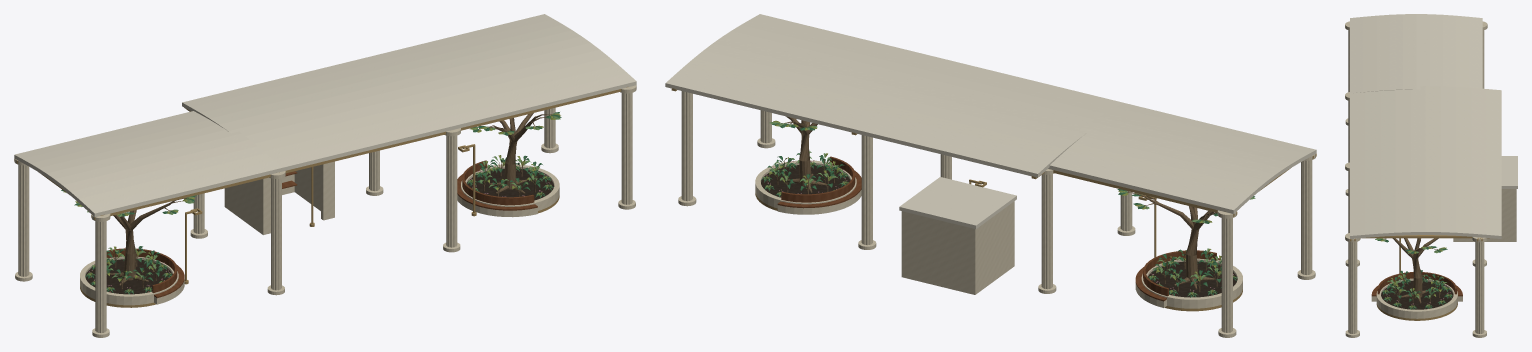
The model's file is G7_Completion_R007B_G7C7_D06_ForeGardenCourt.glb.
The picture shows the model from 3 angles, left to right: view 1: azimuth 30°, elevation 25°; view 2: azimuth 150°, elevation 25°; view 3: azimuth 270°, elevation 25°; orthographic projection. The views are drawn at different scales.
Parts seen in each view (by area): view 1: G7C7_D06_ForeGardenCourt_G7C7_roof_solid_roof, G7C7_D06_ForeGardenCourt_G7C7_stone_solid_frame, G7C7_D06_ForeGardenCourt_G7C7_soil_solid_planter, G7C7_D06_ForeGardenCourt_G7C7_wood_solid_furniture, G7C7_D06_ForeGardenCourt_G7C7_bark_solid_tree_bark, G7C7_D06_ForeGardenCourt_G7C7_stone_solid_planter, G7C7_D06_ForeGardenCourt_G7C7_metal_solid_frame, G7C7_D06_ForeGardenCourt_ASTRAEA_botanical_leaf_jade.001_vis, G7C7_D06_ForeGardenCourt_G7C7_stone_solid_furniture, G7C7_D06_ForeGardenCourt_G7C7_metal_solid_fixture, G7C7_D06_ForeGardenCourt_ASTRAEA_botanical_leaf_sage.001_vis; view 2: G7C7_D06_ForeGardenCourt_G7C7_roof_solid_roof, G7C7_D06_ForeGardenCourt_G7C7_stone_solid_frame, G7C7_D06_ForeGardenCourt_G7C7_soil_solid_planter, G7C7_D06_ForeGardenCourt_G7C7_wood_solid_furniture, G7C7_D06_ForeGardenCourt_G7C7_bark_solid_tree_bark, G7C7_D06_ForeGardenCourt_G7C7_stone_solid_planter, G7C7_D06_ForeGardenCourt_ASTRAEA_botanical_leaf_jade.001_vis, G7C7_D06_ForeGardenCourt_G7C7_stone_solid_furniture, G7C7_D06_ForeGardenCourt_G7C7_metal_solid_frame, G7C7_D06_ForeGardenCourt_ASTRAEA_botanical_leaf_sage.001_vis; view 3: G7C7_D06_ForeGardenCourt_G7C7_roof_solid_roof, G7C7_D06_ForeGardenCourt_G7C7_stone_solid_frame, G7C7_D06_ForeGardenCourt_G7C7_soil_solid_planter, G7C7_D06_ForeGardenCourt_G7C7_stone_solid_planter, G7C7_D06_ForeGardenCourt_G7C7_bark_solid_tree_bark, G7C7_D06_ForeGardenCourt_G7C7_wood_solid_furniture, G7C7_D06_ForeGardenCourt_G7C7_metal_solid_frame, G7C7_D06_ForeGardenCourt_ASTRAEA_botanical_leaf_jade.001_vis, G7C7_D06_ForeGardenCourt_G7C7_metal_solid_planter, G7C7_D06_ForeGardenCourt_ASTRAEA_botanical_leaf_jade.002_vis, G7C7_D06_ForeGardenCourt_ASTRAEA_botanical_leaf_sage.001_vis, G7C7_D06_ForeGardenCourt_ASTRAEA_botanical_leaf_olive.001_vi (+2 smaller).
Boxes of the visible parts, bbox=[...] form: G7C7_D06_ForeGardenCourt_G7C7_roof_solid_roof: bbox=[14, 14, 636, 217]; G7C7_D06_ForeGardenCourt_G7C7_stone_solid_frame: bbox=[14, 85, 636, 337]; G7C7_D06_ForeGardenCourt_G7C7_soil_solid_planter: bbox=[85, 168, 554, 294]; G7C7_D06_ForeGardenCourt_G7C7_wood_solid_furniture: bbox=[106, 160, 537, 298]; G7C7_D06_ForeGardenCourt_G7C7_bark_solid_tree_bark: bbox=[110, 113, 551, 285]; G7C7_D06_ForeGardenCourt_G7C7_stone_solid_planter: bbox=[80, 164, 559, 305]; G7C7_D06_ForeGardenCourt_G7C7_metal_solid_frame: bbox=[14, 87, 627, 219]; G7C7_D06_ForeGardenCourt_ASTRAEA_botanical_leaf_jade.001_vis: bbox=[106, 155, 544, 281]; G7C7_D06_ForeGardenCourt_G7C7_stone_solid_furniture: bbox=[154, 194, 537, 304]; G7C7_D06_ForeGardenCourt_G7C7_metal_solid_fixture: bbox=[184, 144, 476, 284]; G7C7_D06_ForeGardenCourt_ASTRAEA_botanical_leaf_sage.001_vis: bbox=[106, 156, 539, 278]; G7C7_D06_ForeGardenCourt_G7C7_roof_solid_roof: bbox=[665, 14, 1316, 228]; G7C7_D06_ForeGardenCourt_G7C7_stone_solid_frame: bbox=[678, 91, 1315, 337]; G7C7_D06_ForeGardenCourt_G7C7_soil_solid_planter: bbox=[761, 165, 1237, 297]; G7C7_D06_ForeGardenCourt_G7C7_wood_solid_furniture: bbox=[777, 156, 1220, 301]; G7C7_D06_ForeGardenCourt_G7C7_bark_solid_tree_bark: bbox=[781, 116, 1217, 289]; G7C7_D06_ForeGardenCourt_G7C7_stone_solid_planter: bbox=[755, 160, 1242, 308]; G7C7_D06_ForeGardenCourt_ASTRAEA_botanical_leaf_jade.001_vis: bbox=[767, 153, 1221, 286]; G7C7_D06_ForeGardenCourt_G7C7_stone_solid_furniture: bbox=[777, 190, 1220, 307]; G7C7_D06_ForeGardenCourt_G7C7_metal_solid_frame: bbox=[671, 88, 1316, 216]; G7C7_D06_ForeGardenCourt_ASTRAEA_botanical_leaf_sage.001_vis: bbox=[769, 151, 1221, 279]; G7C7_D06_ForeGardenCourt_G7C7_roof_solid_roof: bbox=[1350, 14, 1517, 238]; G7C7_D06_ForeGardenCourt_G7C7_stone_solid_frame: bbox=[1345, 21, 1516, 337]; G7C7_D06_ForeGardenCourt_G7C7_soil_solid_planter: bbox=[1381, 281, 1453, 309]; G7C7_D06_ForeGardenCourt_G7C7_stone_solid_planter: bbox=[1376, 278, 1457, 318]; G7C7_D06_ForeGardenCourt_G7C7_bark_solid_tree_bark: bbox=[1383, 238, 1438, 303]; G7C7_D06_ForeGardenCourt_G7C7_wood_solid_furniture: bbox=[1371, 272, 1462, 296]; G7C7_D06_ForeGardenCourt_G7C7_metal_solid_frame: bbox=[1350, 235, 1489, 241]; G7C7_D06_ForeGardenCourt_ASTRAEA_botanical_leaf_jade.001_vis: bbox=[1387, 270, 1447, 301]; G7C7_D06_ForeGardenCourt_G7C7_metal_solid_planter: bbox=[1376, 303, 1457, 320]; G7C7_D06_ForeGardenCourt_ASTRAEA_botanical_leaf_jade.002_vis: bbox=[1382, 279, 1452, 309]; G7C7_D06_ForeGardenCourt_ASTRAEA_botanical_leaf_sage.001_vis: bbox=[1387, 274, 1446, 298]; G7C7_D06_ForeGardenCourt_ASTRAEA_botanical_leaf_olive.001_vi: bbox=[1390, 272, 1444, 298].
Size of the model in its own units: 27.22 by 6.18 by 9.12.
19 materials, 18 textured.
